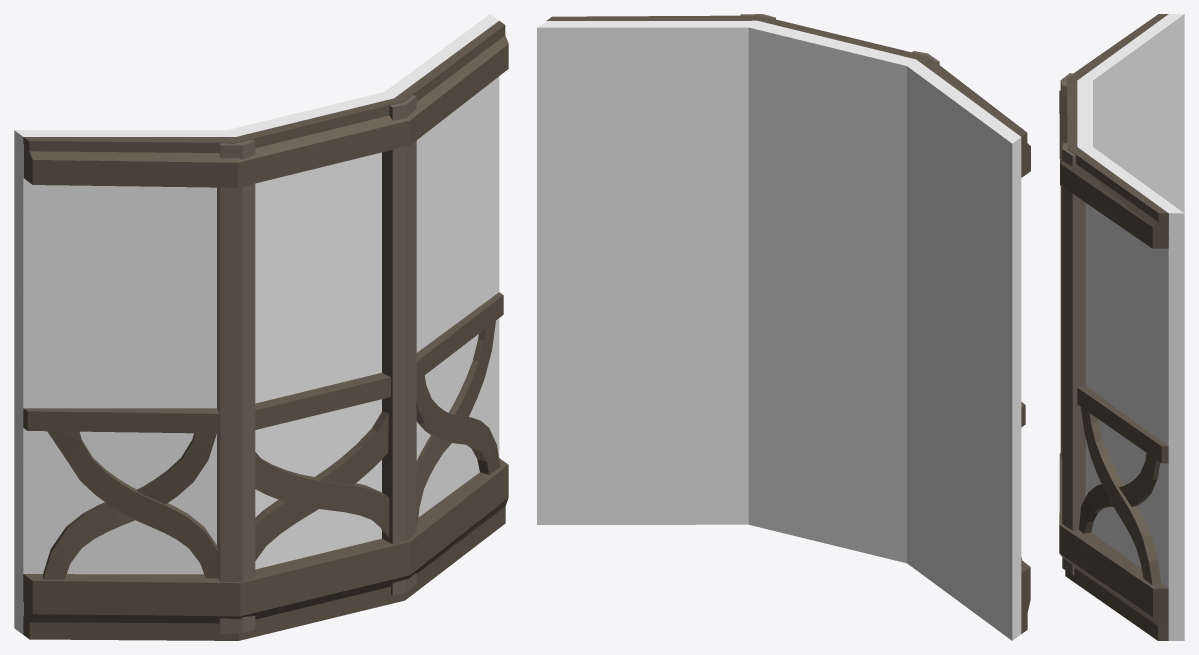
Rendered from WINDOW_02_Balkon_1.glb.
The picture shows the model from 3 angles, left to right: view 1: azimuth 30°, elevation 25°; view 2: azimuth 150°, elevation 25°; view 3: azimuth 270°, elevation 25°; orthographic projection. The views are drawn at different scales.
Visible parts, largest first — view 1: WINDOW_02_Balkon_1; view 2: WINDOW_02_Balkon_1; view 3: WINDOW_02_Balkon_1.
Part boxes in pixels (left/top/right/bottom): WINDOW_02_Balkon_1: left=14, top=14, right=508, bottom=640; WINDOW_02_Balkon_1: left=537, top=14, right=1030, bottom=640; WINDOW_02_Balkon_1: left=1059, top=14, right=1184, bottom=640.
Size of the model in its own units: 3 by 3 by 0.7955.
Materials: 1 (1 with a texture image).
